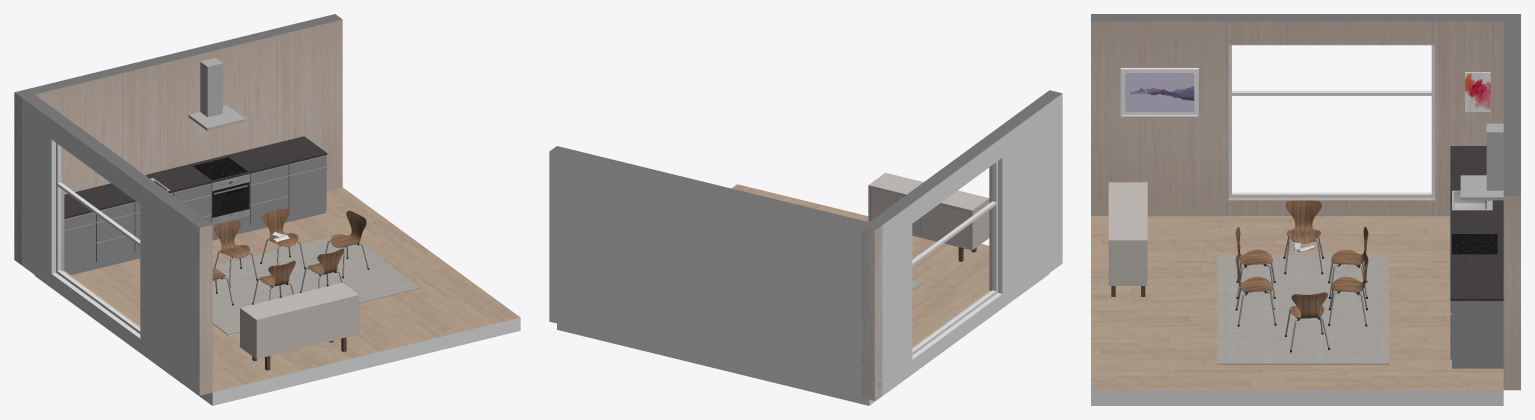
File: tiny-room.glb
3 renders of one model, left to right at view 1: azimuth 30°, elevation 25°; view 2: azimuth 150°, elevation 25°; view 3: azimuth 270°, elevation 25°, orthographic. The views are drawn at different scales.
Size of the model in its own units: 5 by 2.7 by 5.
Materials: 30 (17 with a texture image).
